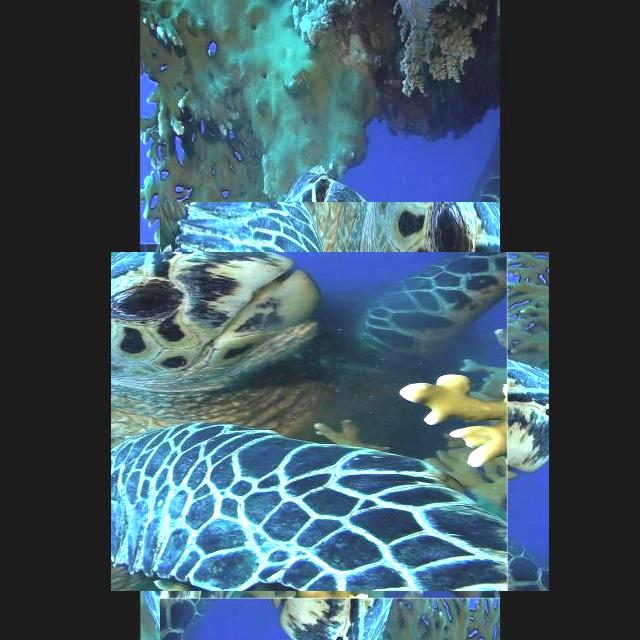Sea turtle: (135, 227, 525, 615)
